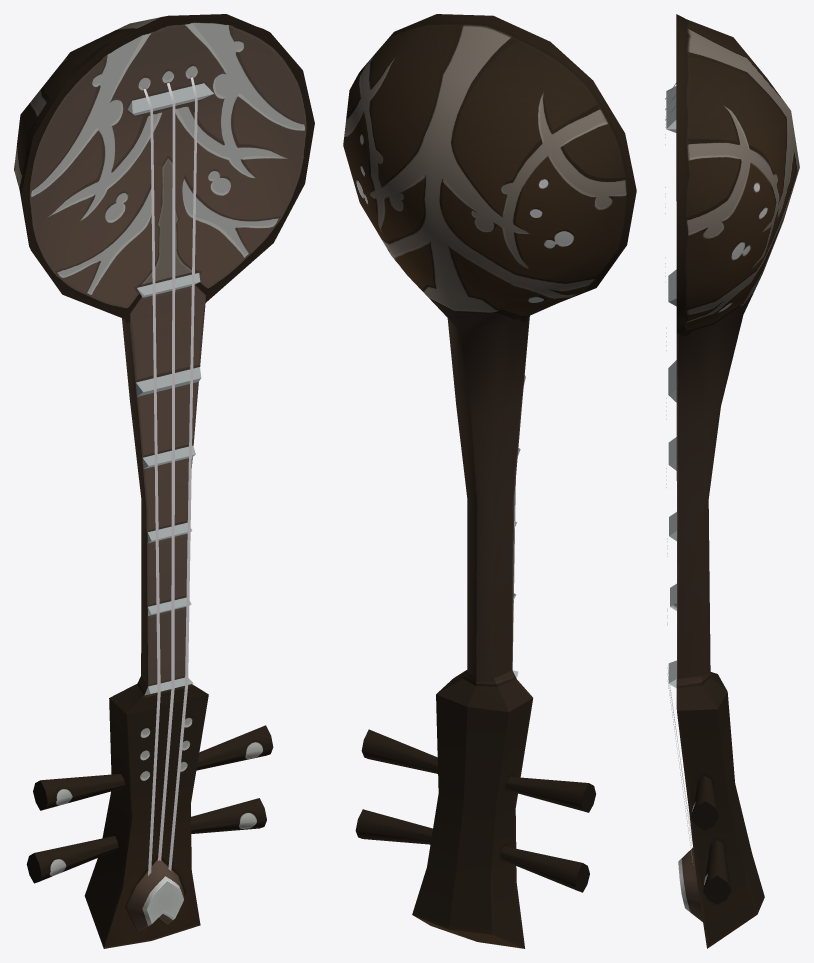
File: wp_sanxian_nlv40.fbx
3 renders of one model, left to right at view 1: azimuth 30°, elevation 25°; view 2: azimuth 150°, elevation 25°; view 3: azimuth 270°, elevation 25°, orthographic. The views are drawn at different scales.
Parts seen in each view (by area): view 1: wp_sanxian_nlv40; view 2: wp_sanxian_nlv40; view 3: wp_sanxian_nlv40.
Boxes of the visible parts, x1=… form: wp_sanxian_nlv40: x1=14, y1=14, x2=314, y2=948; wp_sanxian_nlv40: x1=343, y1=14, x2=636, y2=948; wp_sanxian_nlv40: x1=665, y1=14, x2=799, y2=948.
Bounding box in the file's own units: 41.66 × 127 × 17.24.
